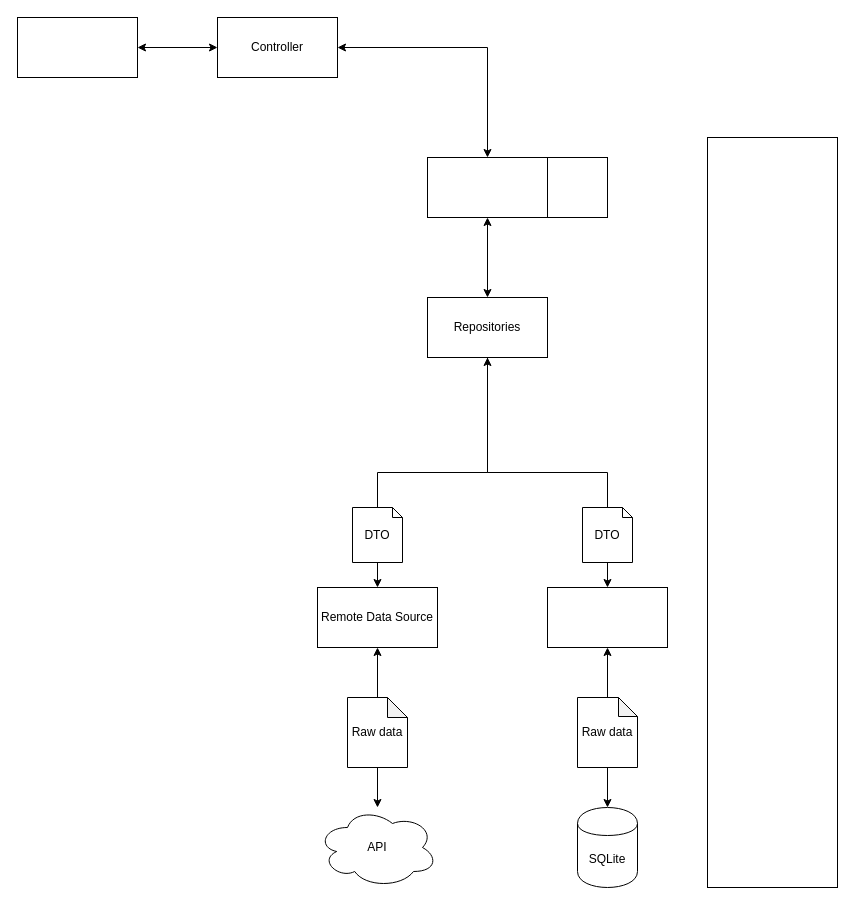
This 855x905 diagram has some shape labels left out. Here are the shapes that lost their labels. From the top down, the centre of each, then its label:
the point at 77,47: View
the point at 487,187: Domain
the point at 577,187: Entities
the point at 772,512: DATA LAYER (Model)
the point at 607,617: Local Data Source
